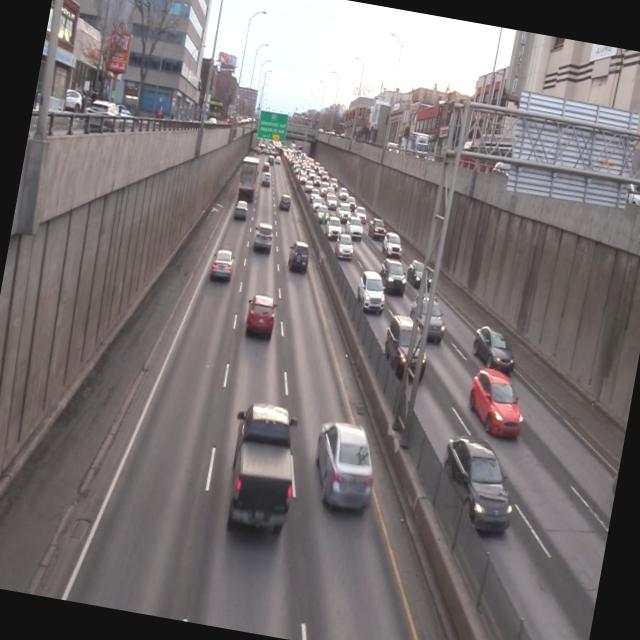Vehicle: (215, 395, 307, 537), (430, 434, 518, 540), (305, 415, 382, 520), (377, 310, 435, 390), (463, 368, 528, 438), (466, 323, 517, 378), (404, 287, 452, 344), (240, 293, 280, 345), (352, 268, 390, 320), (205, 245, 238, 288), (246, 220, 278, 260), (282, 238, 313, 278)
